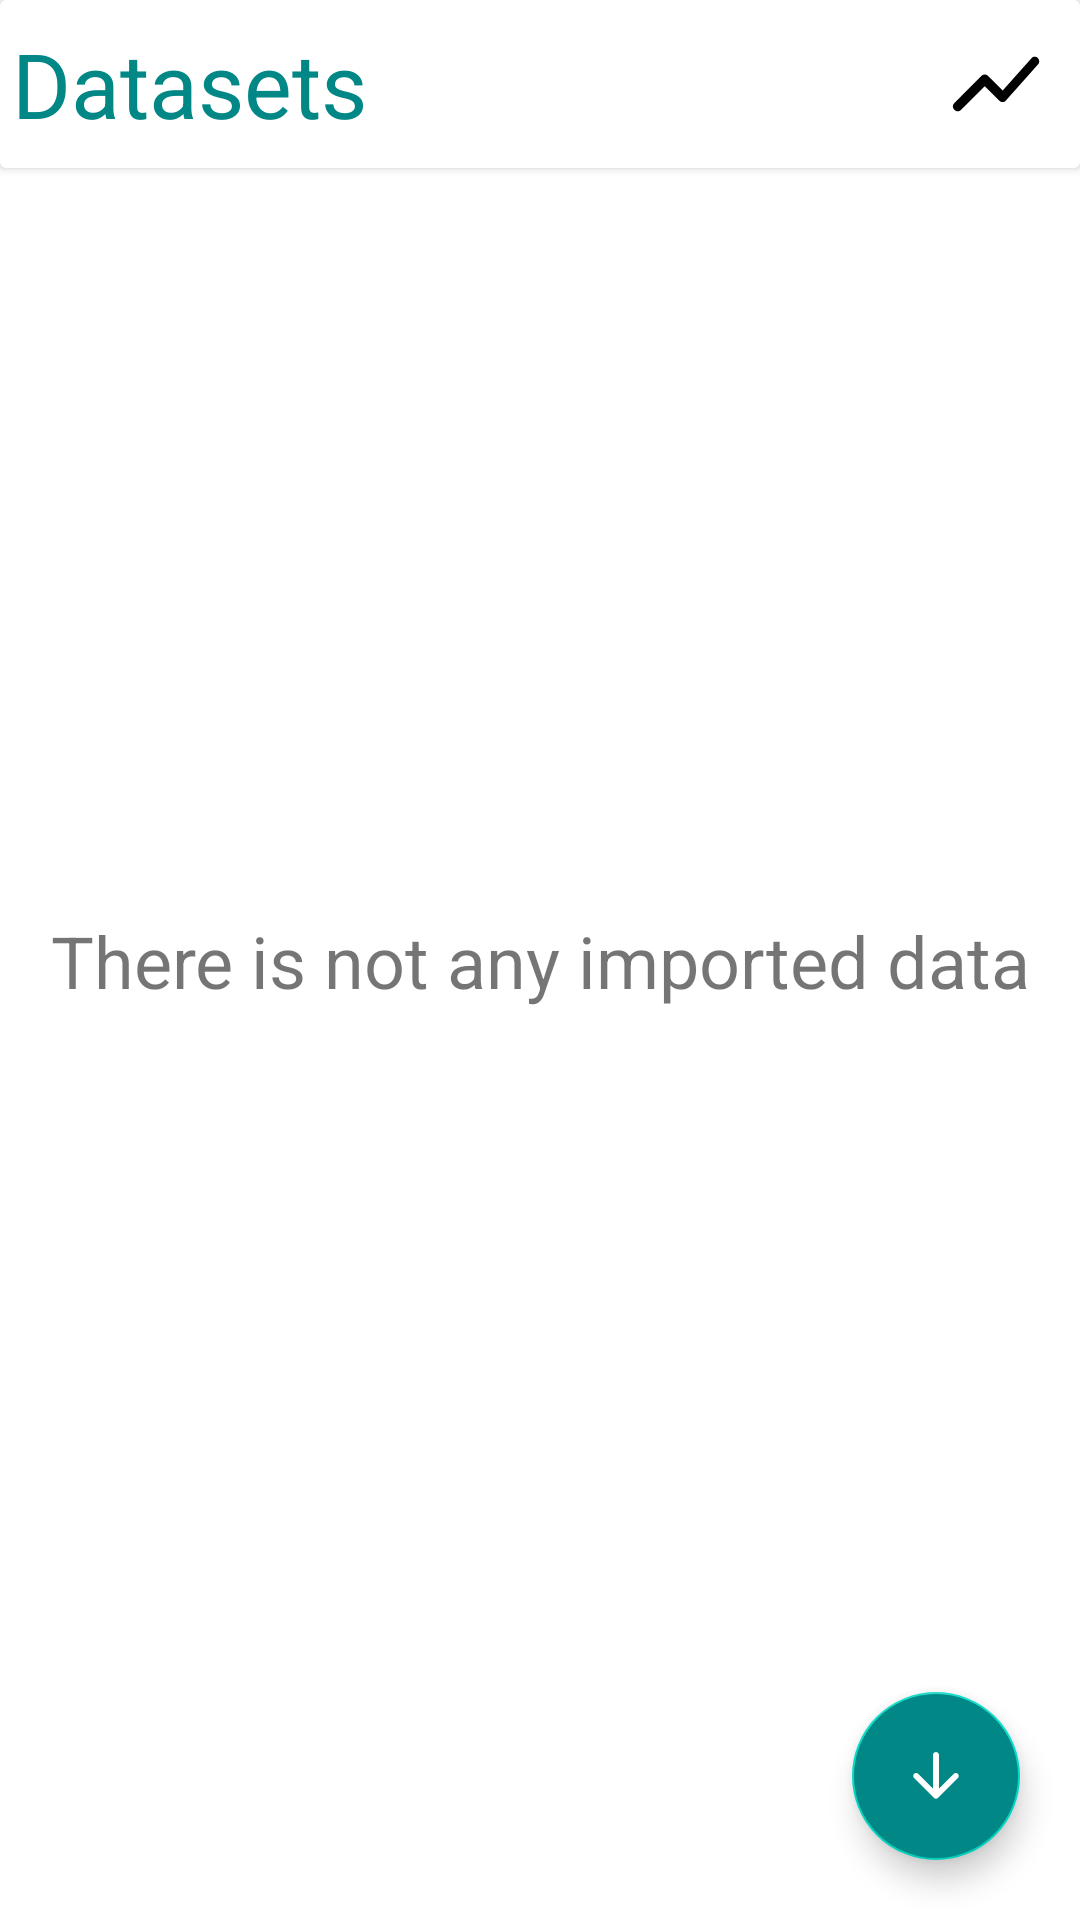

Screen size 1080px×1920px. Icon name, then its center in pixels as point (x, y):
Import Data: point (936, 1776)
show chart: point (1016, 84)
